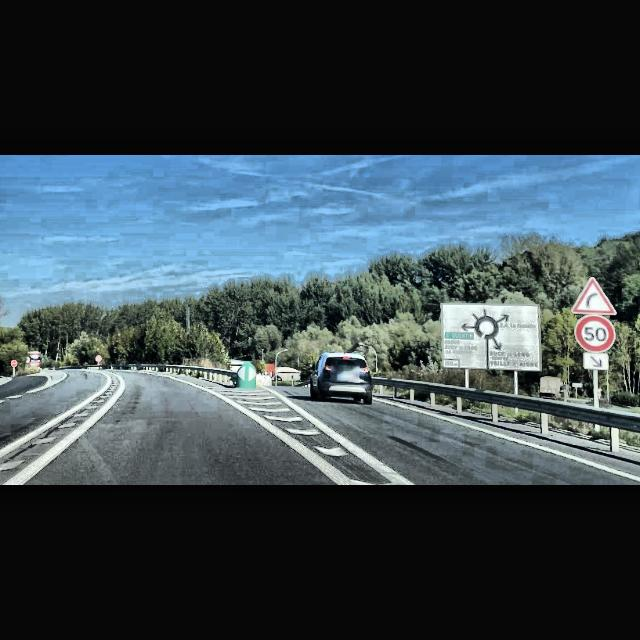speed_50: (576, 316, 614, 352)
